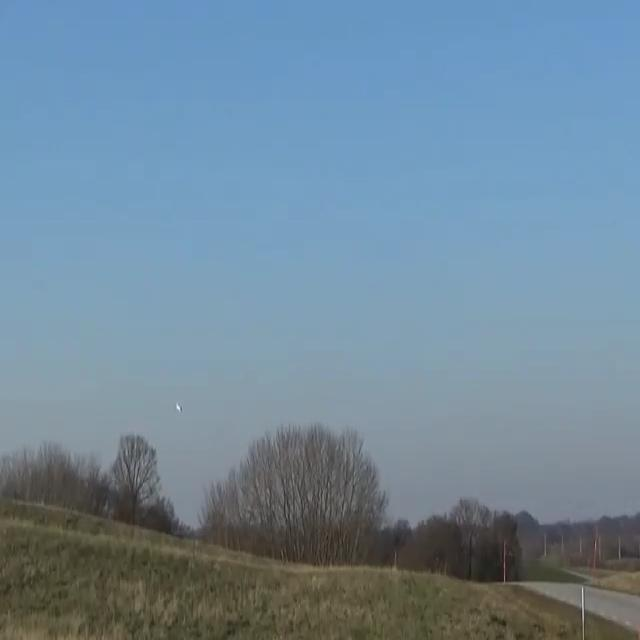AirPlane: (166, 392, 192, 418)
